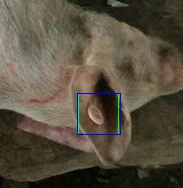text: (78, 93, 118, 134)
